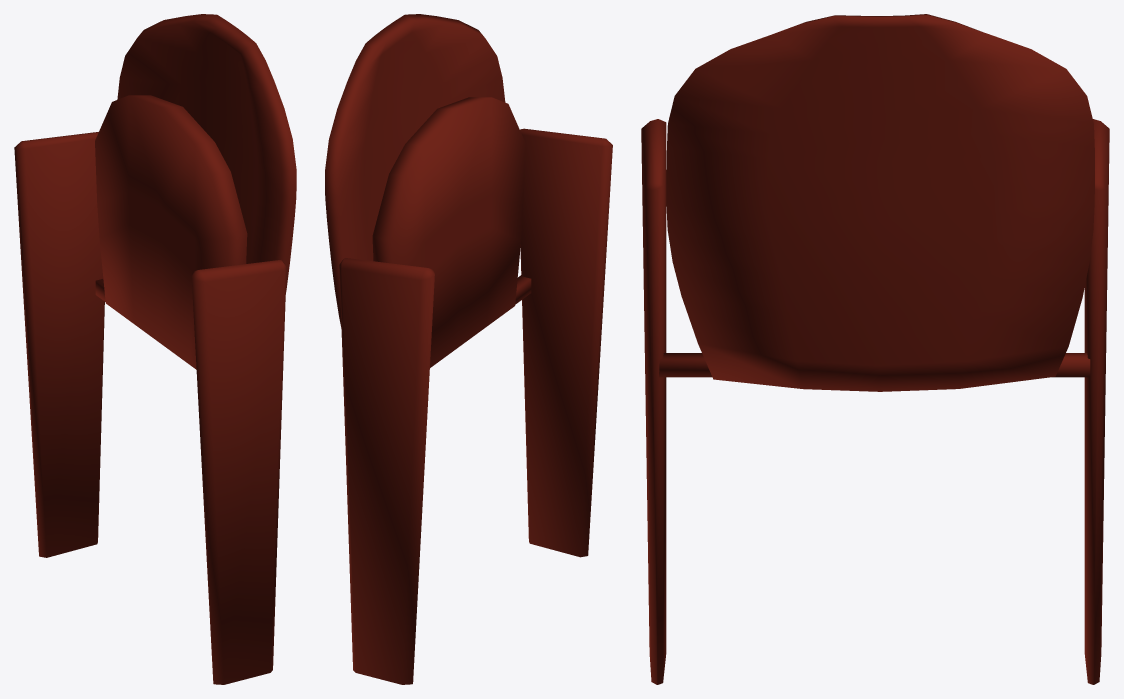
Rendered from Stuhl.glb.
3 renders of one model, left to right at view 1: azimuth 30°, elevation 25°; view 2: azimuth 150°, elevation 25°; view 3: azimuth 270°, elevation 25°, orthographic. The views are drawn at different scales.
Parts seen in each view (by area): view 1: walls_dark_wood_0.004; view 2: walls_dark_wood_0.004; view 3: walls_dark_wood_0.004.
Boxes of the visible parts, x1,y1,x2,y2 form: walls_dark_wood_0.004: (14,14,296,684); walls_dark_wood_0.004: (325,14,612,684); walls_dark_wood_0.004: (641,14,1109,684).
Bounding box in the file's own units: 4.5 × 17.82 × 10.79.
